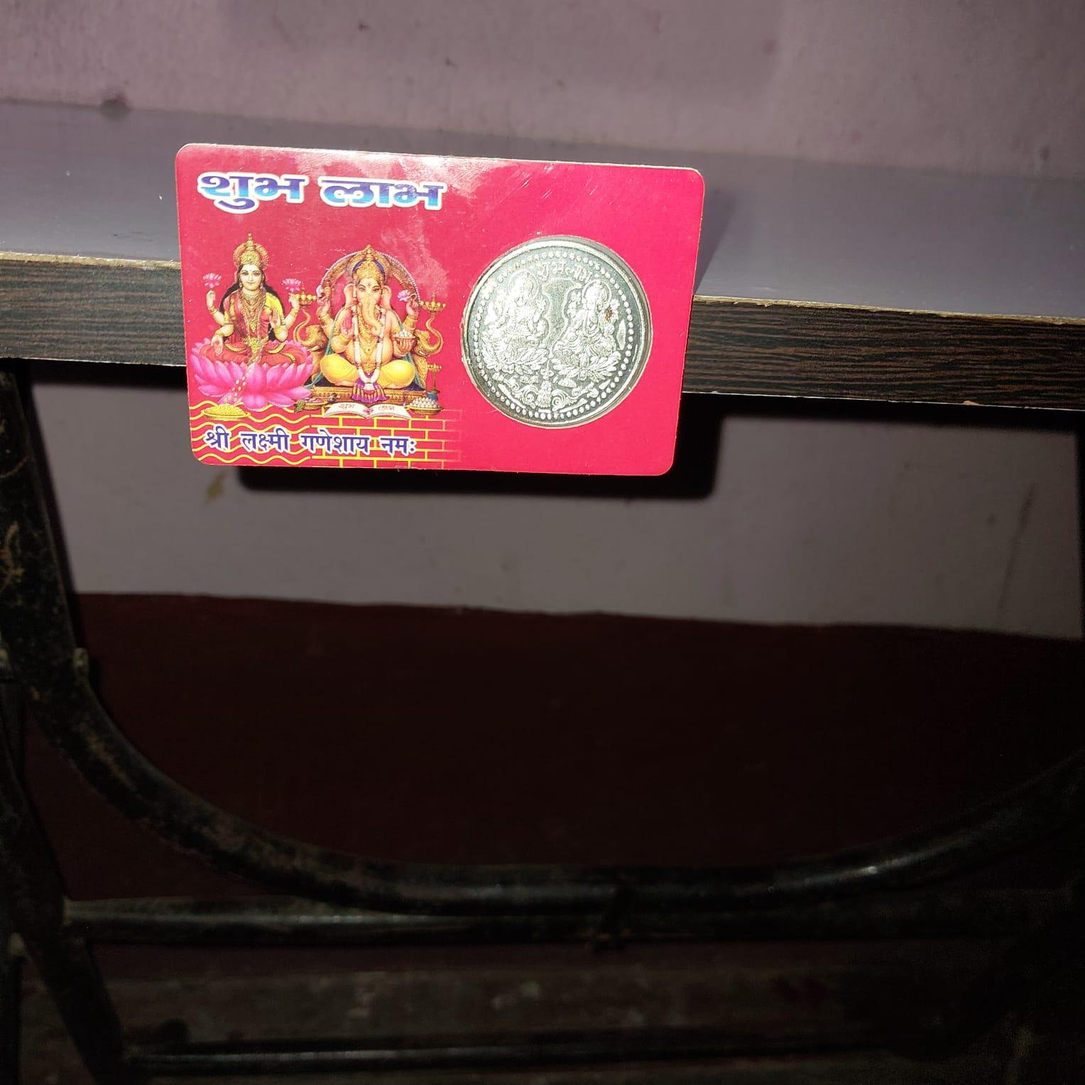blessing_card: (169, 128, 705, 488)
